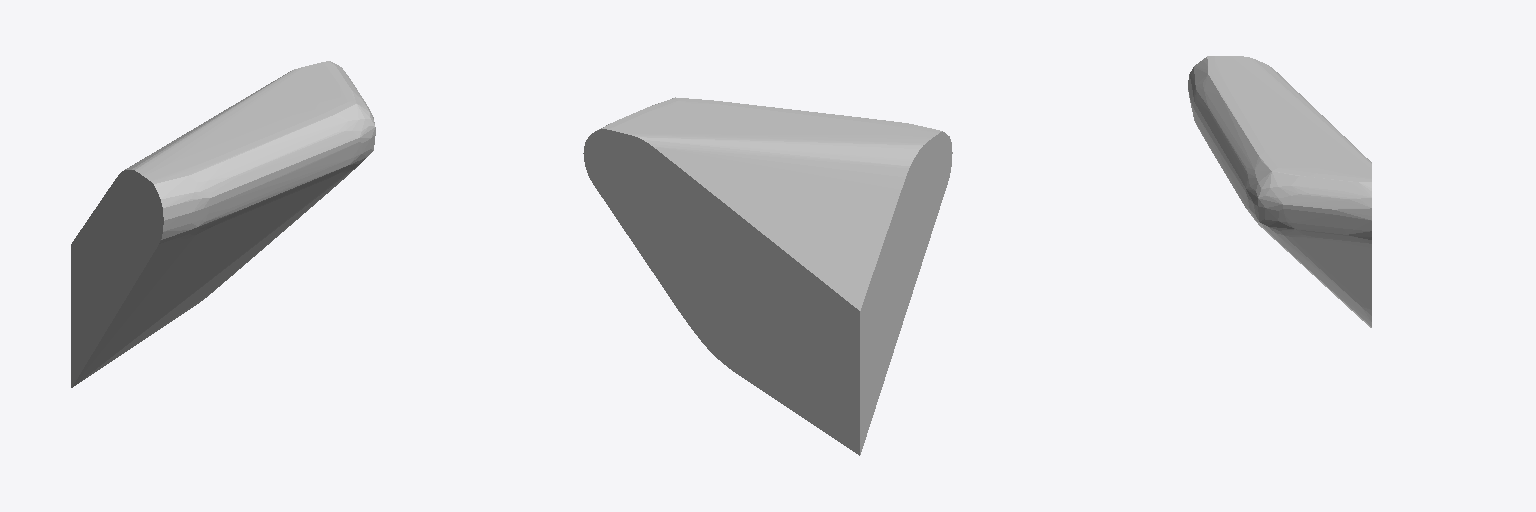
The model's file is Bowl_21_collision_1.obj.
3 views of the same model, side by side, from view 1: azimuth 30°, elevation 25°; view 2: azimuth 150°, elevation 25°; view 3: azimuth 270°, elevation 25° (orthographic).
Bounding box in the file's own units: 0.0616 × 0.0564 × 0.0356.